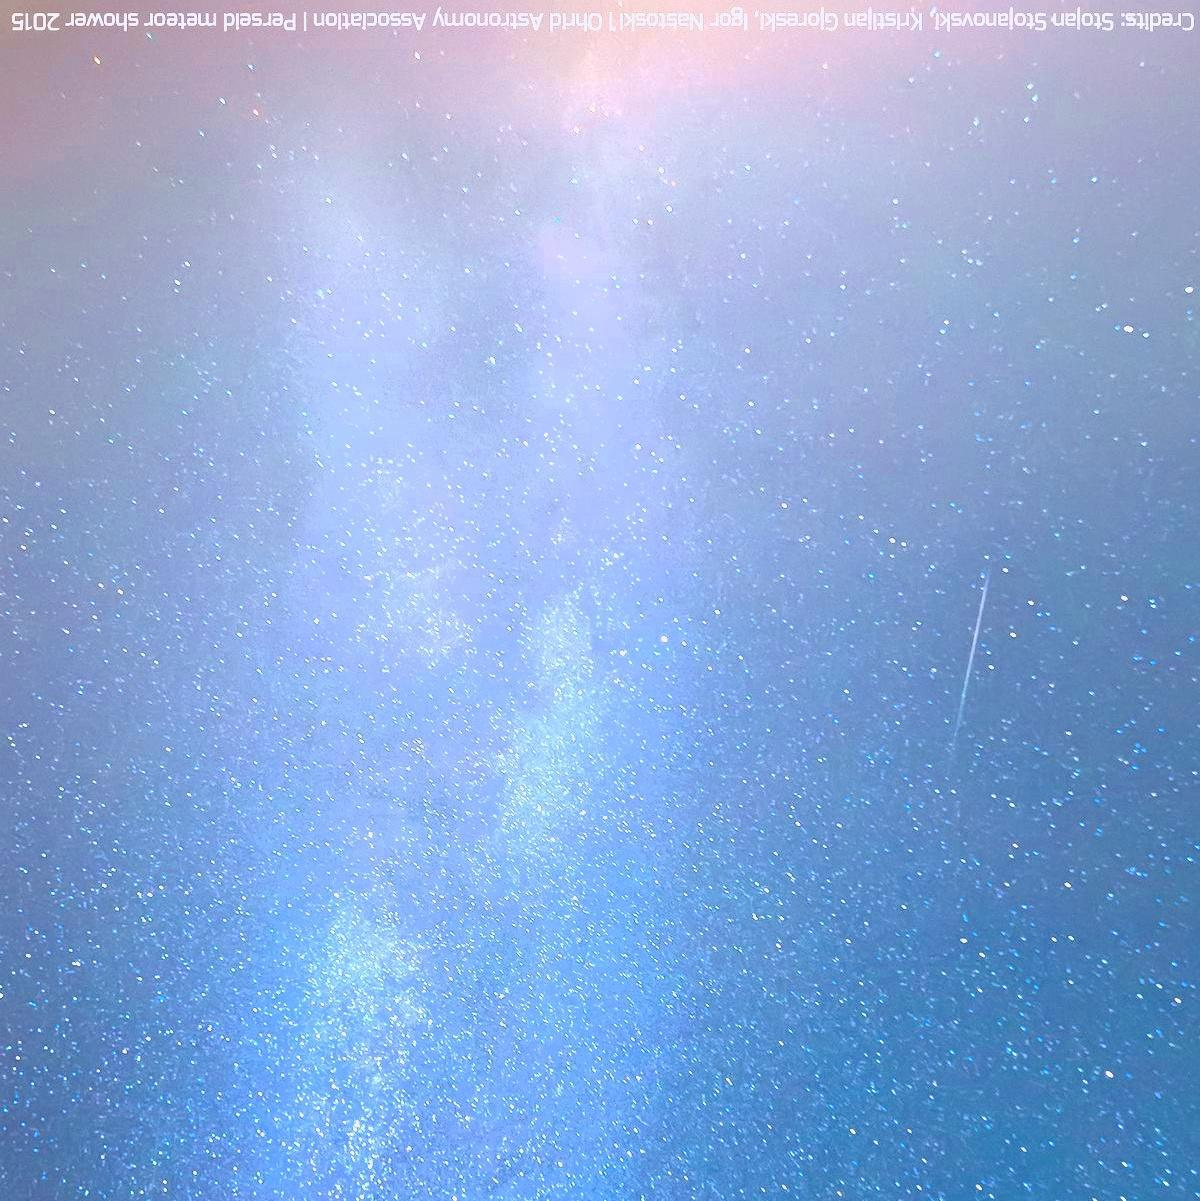meteorite: (934, 551, 1011, 741)
